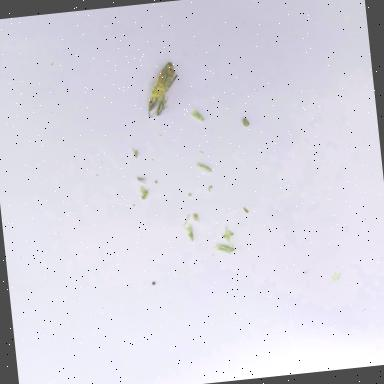pbw: (212, 240, 237, 258), (188, 106, 206, 124), (182, 222, 196, 244), (194, 160, 213, 175)
